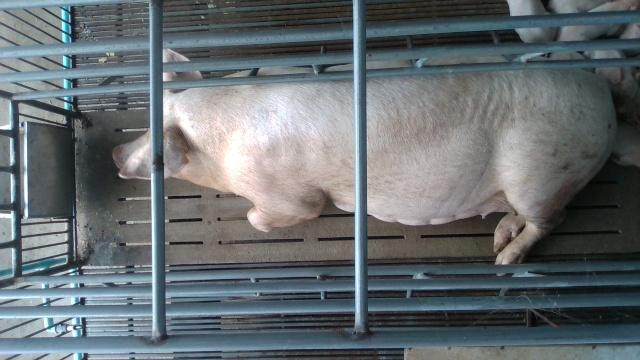piglet: (585, 49, 640, 131), (558, 0, 640, 41), (507, 0, 558, 42)
sow-sleep: (111, 48, 619, 279)
